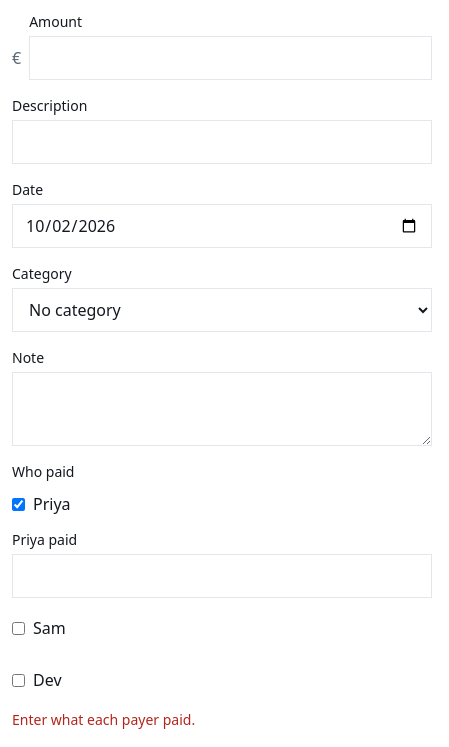
Test case: the payer-sum line › refuses a set of payers nobody is in
In the field labelled "Amount": [231, 58] box [29, 36, 432, 80], type "10"
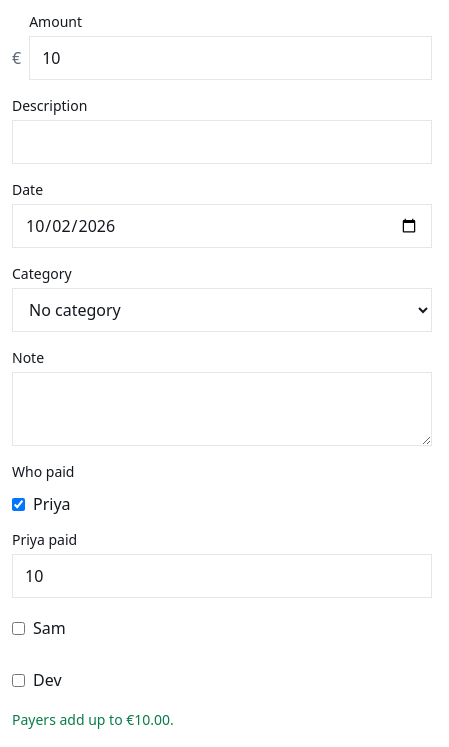
Click the checkbox labelled "Priya": [18, 504] box [12, 498, 25, 510]
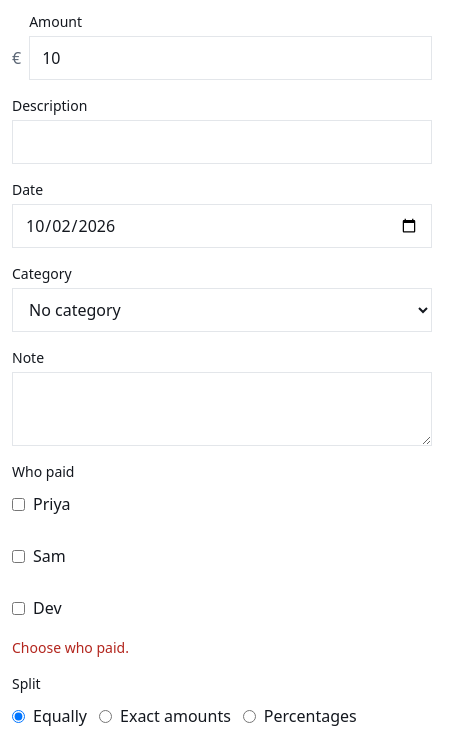
Now the text "Choose who paid." is shown, box [12, 638, 129, 657]
